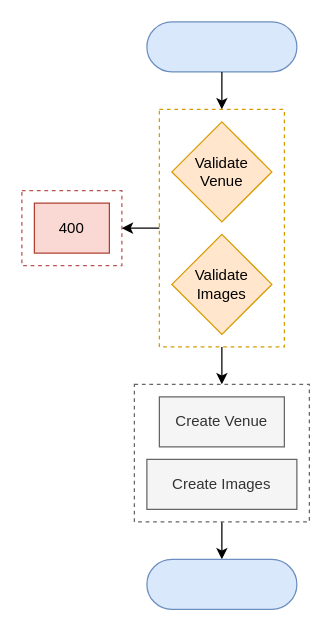
Some shapes in this 331 by 631 pixel diagram are drawn without their labels. Each missing label, with the centre of its shape:
POST /veneus: point (221, 46)
Response 200: point (221, 583)
